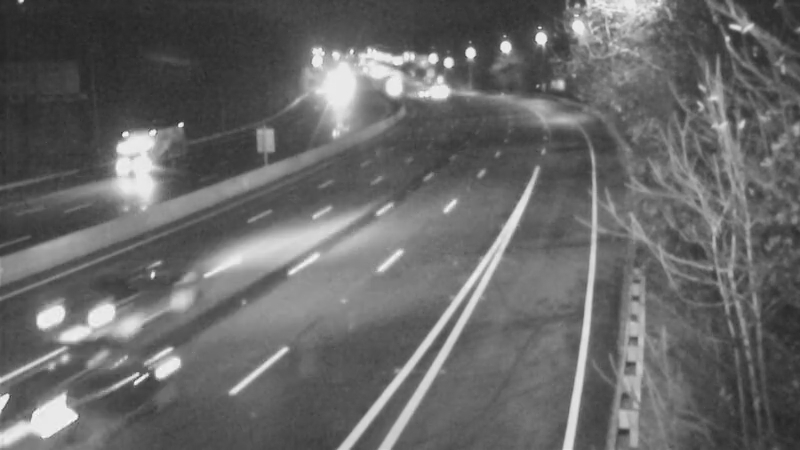vehicle: (16, 251, 126, 361), (12, 345, 122, 450), (96, 118, 176, 198), (412, 65, 462, 115), (393, 70, 443, 120)
